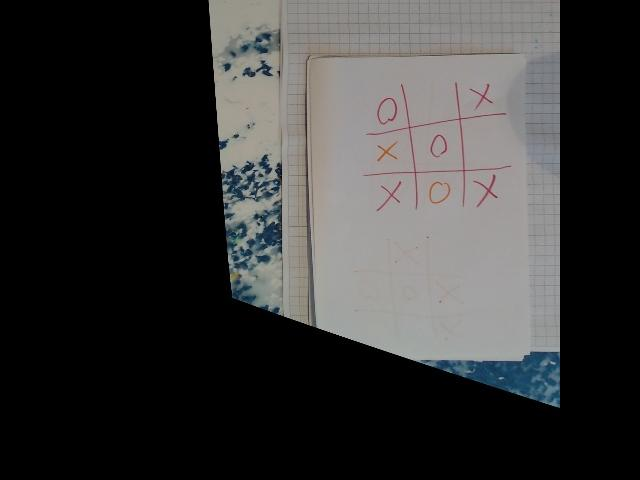O: (423, 130, 449, 162), (427, 178, 452, 208), (374, 96, 396, 128)
X: (372, 180, 402, 214), (472, 173, 498, 208), (467, 82, 494, 108), (374, 138, 401, 164)
grid: (359, 80, 507, 220)
